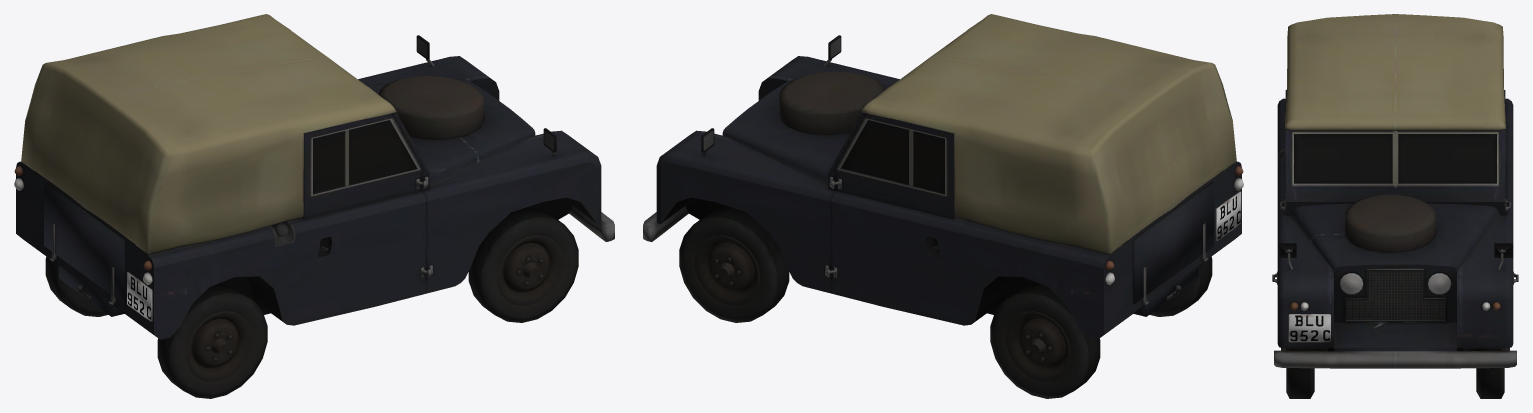
The picture shows the model from 3 angles, left to right: view 1: azimuth 30°, elevation 25°; view 2: azimuth 150°, elevation 25°; view 3: azimuth 270°, elevation 25°; orthographic projection. The views are drawn at different scales.
Parts seen in each view (by area): view 1: body0_model0_lod0_mesh0; view 2: body0_model0_lod0_mesh0; view 3: body0_model0_lod0_mesh0.
Boxes of the visible parts, left/top/right/bottom form: body0_model0_lod0_mesh0: left=14, top=14, right=614, bottom=398; body0_model0_lod0_mesh0: left=643, top=14, right=1243, bottom=398; body0_model0_lod0_mesh0: left=1272, top=14, right=1518, bottom=398.
Size of the model in its own units: 205 by 111 by 108.
Materials: 1 (1 with a texture image).
